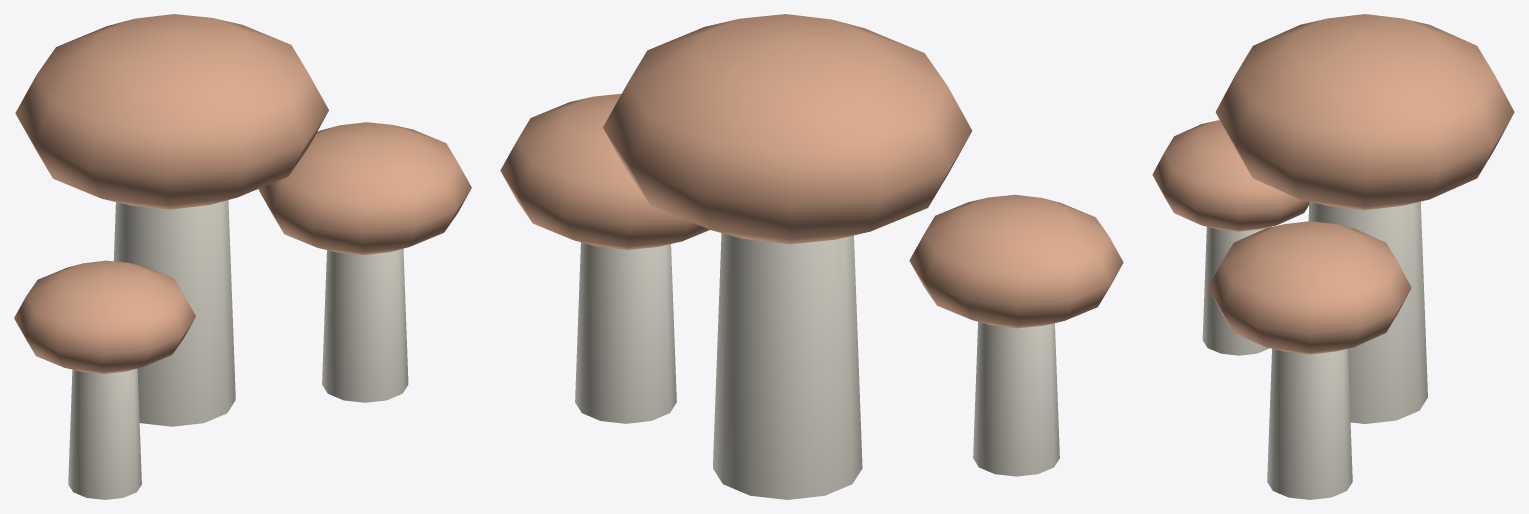
The model's file is mushrooms.glb.
3 views of the same model, side by side, from view 1: azimuth 30°, elevation 25°; view 2: azimuth 150°, elevation 25°; view 3: azimuth 270°, elevation 25° (orthographic). The views are drawn at different scales.
Size of the model in its own units: 0.341 by 0.2567 by 0.2301.
